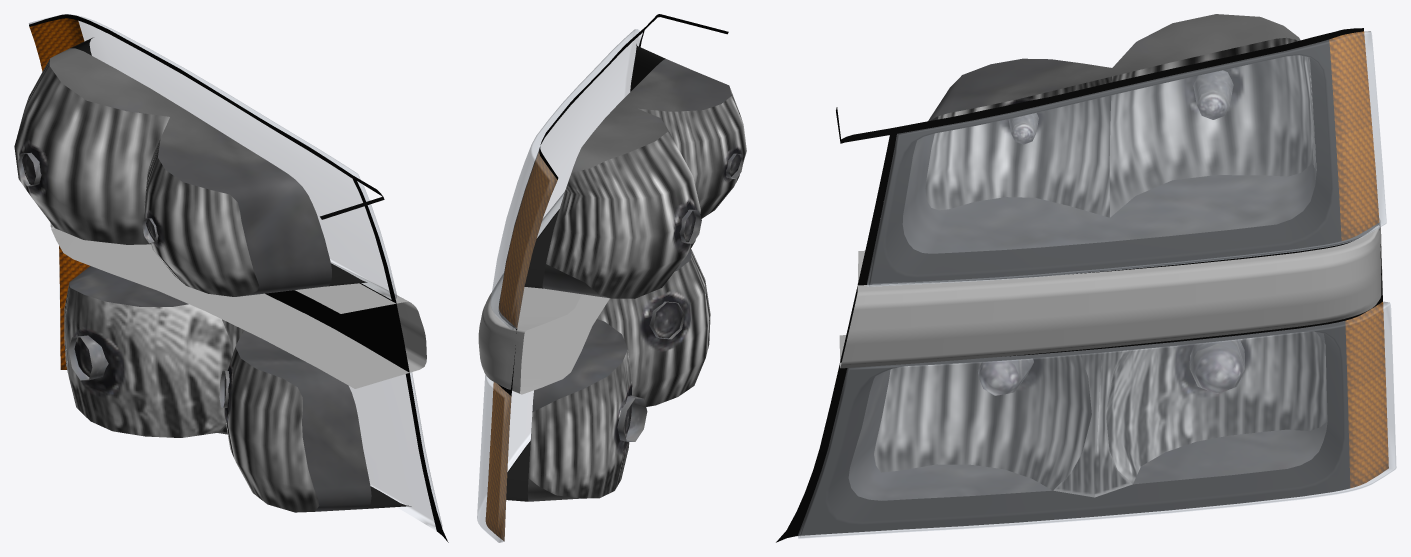
3 views of the same model, side by side, from view 1: azimuth 30°, elevation 25°; view 2: azimuth 150°, elevation 25°; view 3: azimuth 270°, elevation 25° (orthographic). The views are drawn at different scales.
Parts seen in each view (by area): view 1: U803_1A_061B_L_U803_1A_061B_L_3_N, U803_1A_061B_L_U803_1A_061B_L_4_DaS, U803_1A_061B_L_U803_1A_061B_L_1_DTaSI, U803_1A_061B_L_U803_1A_061B_L_2_DTaSI, U803_1A_061B_L_6_D_U803_1A_061B_L, U803_1A_061B_L_U803_1A_061B_L_5_N; view 2: U803_1A_061B_L_U803_1A_061B_L_3_N, U803_1A_061B_L_U803_1A_061B_L_1_DTaSI, U803_1A_061B_L_U803_1A_061B_L_4_DaS, U803_1A_061B_L_U803_1A_061B_L_2_DTaSI, U803_1A_061B_L_U803_1A_061B_L_5_N, U803_1A_061B_L_6_D_U803_1A_061B_L; view 3: U803_1A_061B_L_U803_1A_061B_L_3_N, U803_1A_061B_L_U803_1A_061B_L_2_DTaSI, U803_1A_061B_L_U803_1A_061B_L_1_DTaSI, U803_1A_061B_L_U803_1A_061B_L_5_N, U803_1A_061B_L_U803_1A_061B_L_4_DaS, U803_1A_061B_L_6_D_U803_1A_061B_L.
Boxes of the visible parts, x1=… form: U803_1A_061B_L_U803_1A_061B_L_3_N: x1=14, y1=18, x2=371, y2=512; U803_1A_061B_L_U803_1A_061B_L_4_DaS: x1=50, y1=222, x2=426, y2=388; U803_1A_061B_L_U803_1A_061B_L_1_DTaSI: x1=29, y1=14, x2=396, y2=299; U803_1A_061B_L_U803_1A_061B_L_2_DTaSI: x1=59, y1=249, x2=442, y2=530; U803_1A_061B_L_6_D_U803_1A_061B_L: x1=29, y1=14, x2=448, y2=542; U803_1A_061B_L_U803_1A_061B_L_5_N: x1=70, y1=37, x2=411, y2=508; U803_1A_061B_L_U803_1A_061B_L_3_N: x1=485, y1=59, x2=746, y2=541; U803_1A_061B_L_U803_1A_061B_L_1_DTaSI: x1=490, y1=29, x2=642, y2=329; U803_1A_061B_L_U803_1A_061B_L_4_DaS: x1=478, y1=192, x2=609, y2=394; U803_1A_061B_L_U803_1A_061B_L_2_DTaSI: x1=477, y1=374, x2=533, y2=542; U803_1A_061B_L_U803_1A_061B_L_5_N: x1=499, y1=44, x2=665, y2=501; U803_1A_061B_L_6_D_U803_1A_061B_L: x1=498, y1=14, x2=728, y2=395; U803_1A_061B_L_U803_1A_061B_L_3_N: x1=848, y1=14, x2=1388, y2=500; U803_1A_061B_L_U803_1A_061B_L_2_DTaSI: x1=797, y1=301, x2=1396, y2=538; U803_1A_061B_L_U803_1A_061B_L_1_DTaSI: x1=867, y1=31, x2=1386, y2=286; U803_1A_061B_L_U803_1A_061B_L_5_N: x1=798, y1=39, x2=1350, y2=535; U803_1A_061B_L_U803_1A_061B_L_4_DaS: x1=839, y1=219, x2=1382, y2=368; U803_1A_061B_L_6_D_U803_1A_061B_L: x1=776, y1=28, x2=1382, y2=542.
Size of the model in its own units: 18.38 by 28.06 by 36.11.
